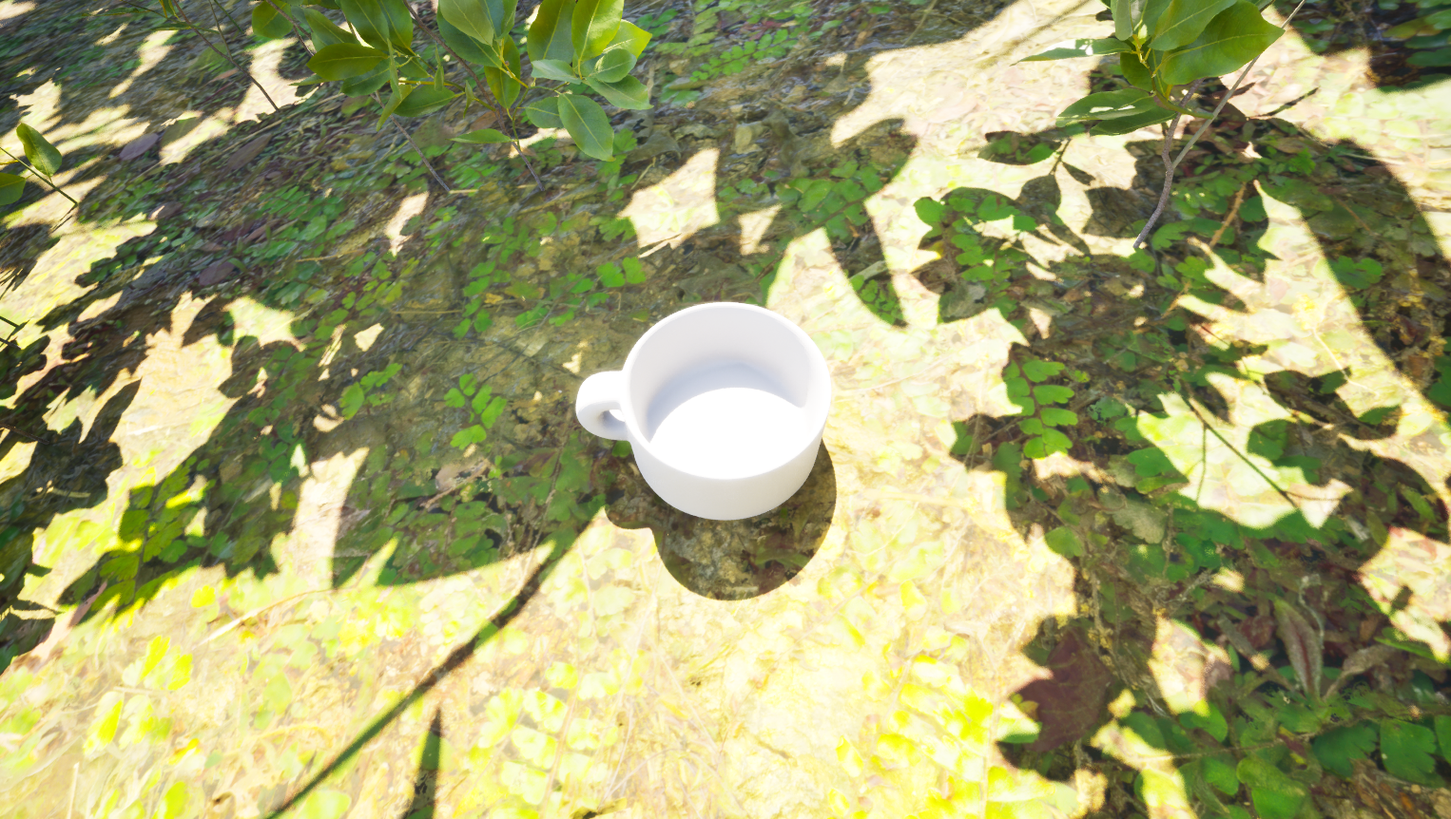Teacup: (550, 260, 870, 561)
